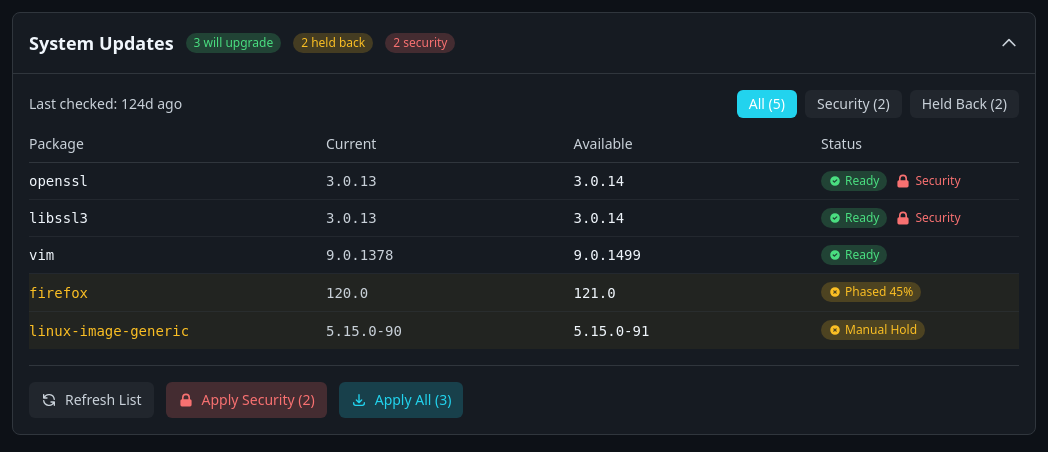
Test case: PackageList › filter toggle (US0051 AC4, US0198) › filters to held back only when clicked
This screenshot has width=1048, height=452.
Click the button with test id "filter-held-back" at (964, 104), box x1=910 y1=90 x2=1019 y2=118
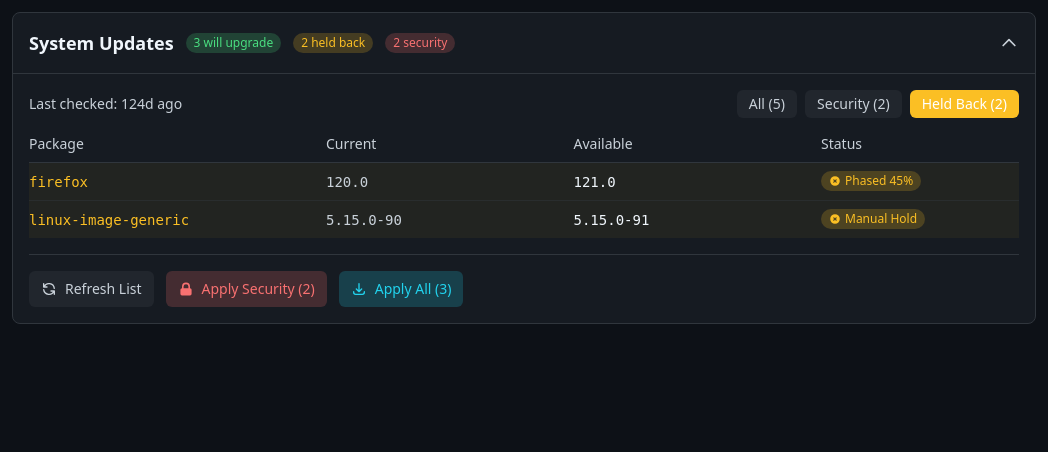
Expected: the text "firefox" is shown, x1=29 y1=174 x2=88 y2=190
Expected: the text "openssl" is gone
Expected: the text "vim" is gone
